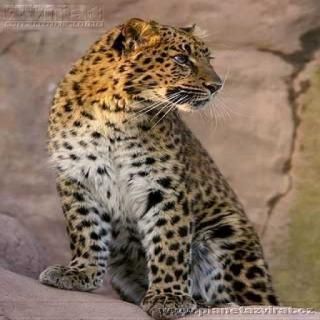Leopard: (39, 30, 252, 304)
